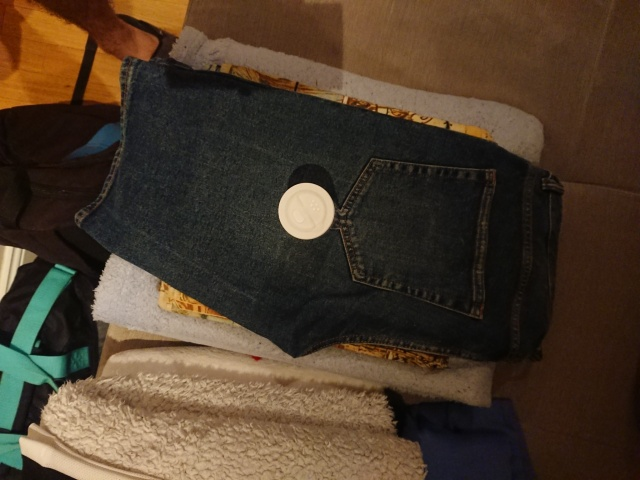Solana Pag Fine Sea Salt 250g: (275, 179, 337, 242)
